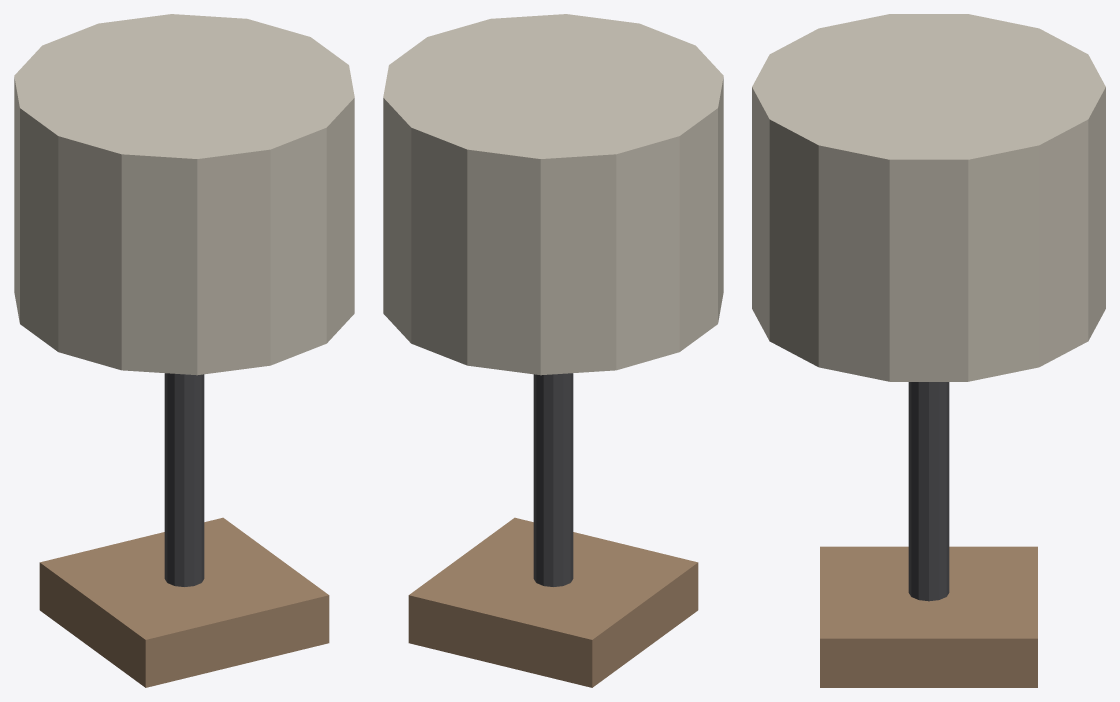
Rendered from ilu_lampada_mesa2.glb.
3 renders of one model, left to right at view 1: azimuth 30°, elevation 25°; view 2: azimuth 150°, elevation 25°; view 3: azimuth 270°, elevation 25°, orthographic. The views are drawn at different scales.
Parts seen in each view (by area): view 1: ILU_Lampada_Mesa2_v01; view 2: ILU_Lampada_Mesa2_v01; view 3: ILU_Lampada_Mesa2_v01.
Part boxes in pixels (box(x1,y1,x2,y2)): ILU_Lampada_Mesa2_v01: box(14, 14, 354, 687); ILU_Lampada_Mesa2_v01: box(383, 14, 723, 687); ILU_Lampada_Mesa2_v01: box(752, 14, 1105, 687).
Bounding box in the file's own units: 0.2535 × 0.45 × 0.26.
